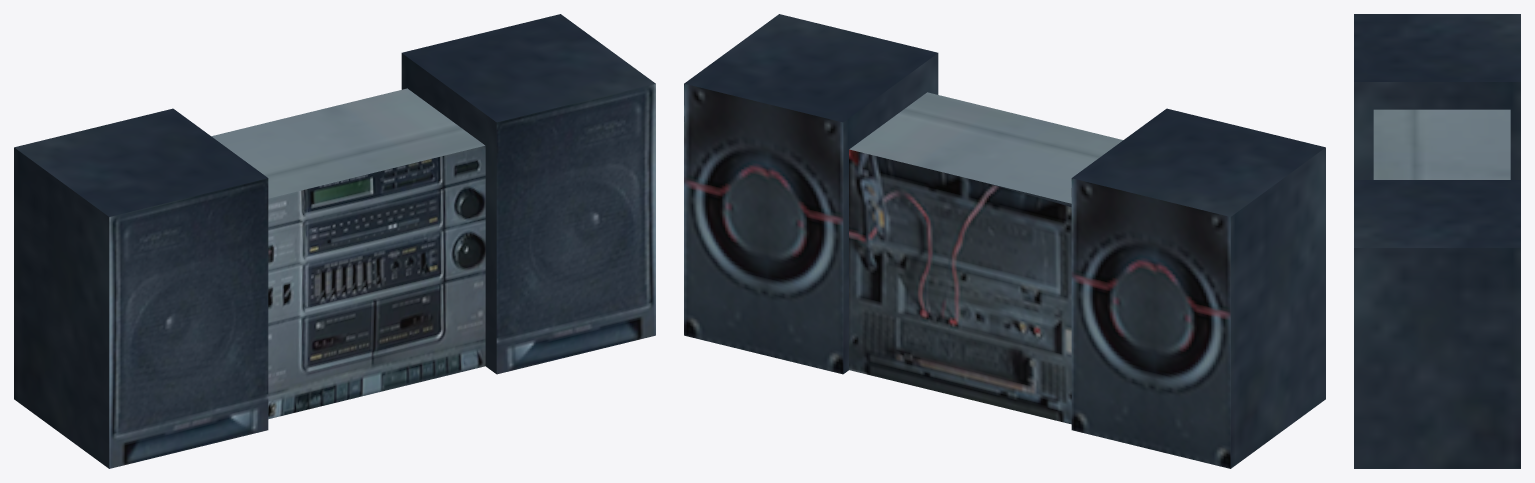
The model's file is SM_Radio_01.fbx.
3 views of the same model, side by side, from view 1: azimuth 30°, elevation 25°; view 2: azimuth 150°, elevation 25°; view 3: azimuth 270°, elevation 25° (orthographic). The views are drawn at different scales.
Parts seen in each view (by area): view 1: SM_Radio_01; view 2: SM_Radio_01; view 3: SM_Radio_01.
Part boxes in pixels (<box>): SM_Radio_01: <box>14,14,655,468</box>; SM_Radio_01: <box>684,14,1325,468</box>; SM_Radio_01: <box>1354,14,1520,468</box>.
Bounding box in the file's own units: 88.98 × 39.19 × 26.84.
